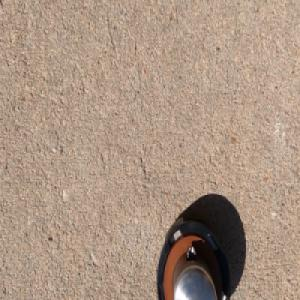FuelCap: (155, 211, 233, 300)
